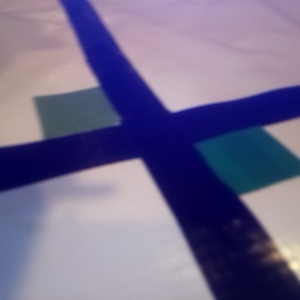bottom_right: (160, 113, 298, 194)
top_left: (35, 87, 149, 158)
